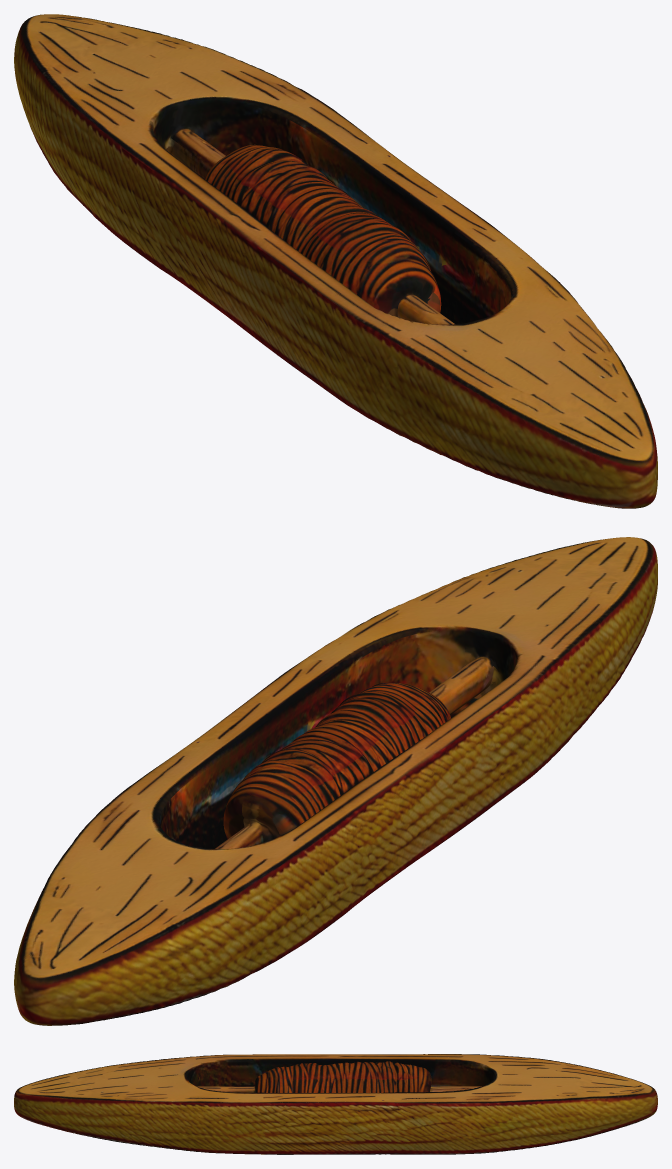
Rendered from tripo_convert_c6388822-17fe-4e50-8c2b-8e14fc3eba46.obj.
The picture shows the model from 3 angles, top to bottom: view 1: azimuth 30°, elevation 25°; view 2: azimuth 150°, elevation 25°; view 3: azimuth 270°, elevation 25°; orthographic projection. The views are drawn at different scales.
Visible parts, largest first — view 1: tripo_node_c6388822-17fe-4e50-8c2b-8e14fc3eba46; view 2: tripo_node_c6388822-17fe-4e50-8c2b-8e14fc3eba46; view 3: tripo_node_c6388822-17fe-4e50-8c2b-8e14fc3eba46.
Boxes of the visible parts, <box> form: tripo_node_c6388822-17fe-4e50-8c2b-8e14fc3eba46: <box>14,14,657,508</box>; tripo_node_c6388822-17fe-4e50-8c2b-8e14fc3eba46: <box>14,537,657,1025</box>; tripo_node_c6388822-17fe-4e50-8c2b-8e14fc3eba46: <box>14,1054,657,1154</box>.
Size of the model in its own units: 0.1944 by 0.1085 by 1.
Materials: 1 (1 with a texture image).
